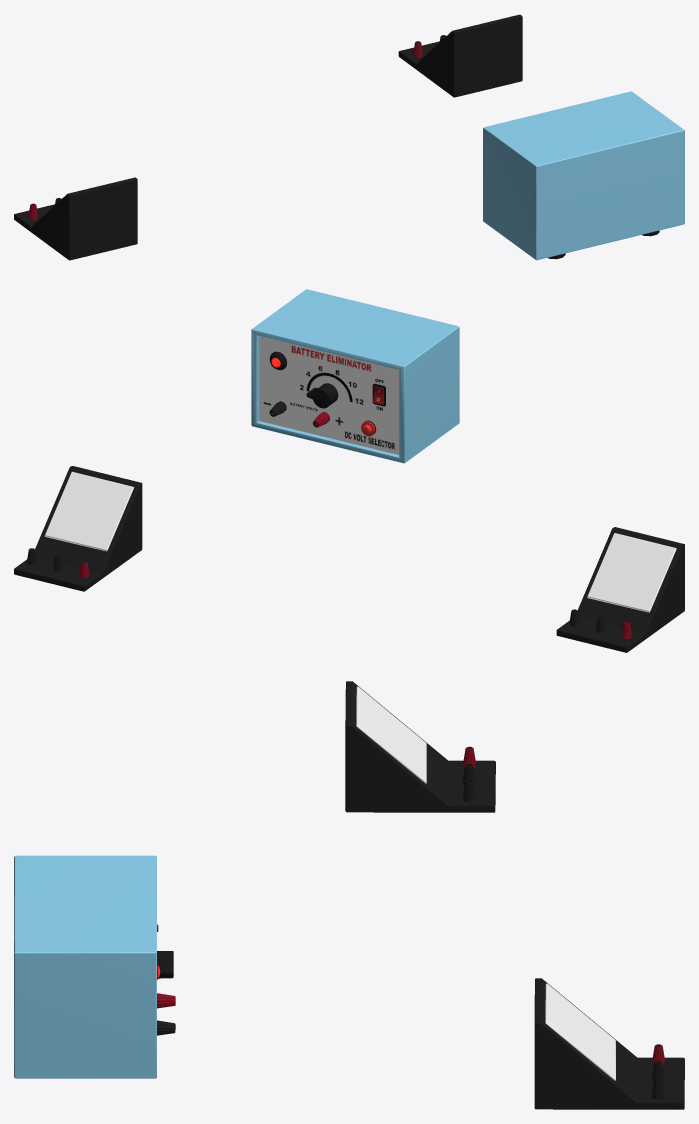
Rendered from Voltmeter.fbx.
3 renders of one model, top to bottom at view 1: azimuth 30°, elevation 25°; view 2: azimuth 150°, elevation 25°; view 3: azimuth 270°, elevation 25°, orthographic. The views are drawn at different scales.
Parts seen in each view (by area): view 1: Power_Supply, Voltmeter, Ammeter1; view 2: Power_Supply, Glass (×2), Voltmeter, Ammeter1, Round_Switch; view 3: Power_Supply, Ammeter1, Voltmeter, Glass (×2).
Part boxes in pixels (x1,y1,x2,y2): Power_Supply: (483, 91, 684, 260); Voltmeter: (398, 14, 522, 97); Ammeter1: (14, 177, 137, 260); Power_Supply: (251, 289, 459, 463); Glass (×2): (44, 471, 676, 612); Voltmeter: (14, 466, 142, 591); Ammeter1: (556, 527, 684, 652); Round_Switch: (306, 383, 338, 408); Power_Supply: (14, 855, 175, 1078); Ammeter1: (345, 681, 495, 812); Voltmeter: (534, 978, 684, 1109); Glass (×2): (356, 686, 615, 1080).
Bounding box in the file's own units: 45.57 × 8.48 × 37.76.
